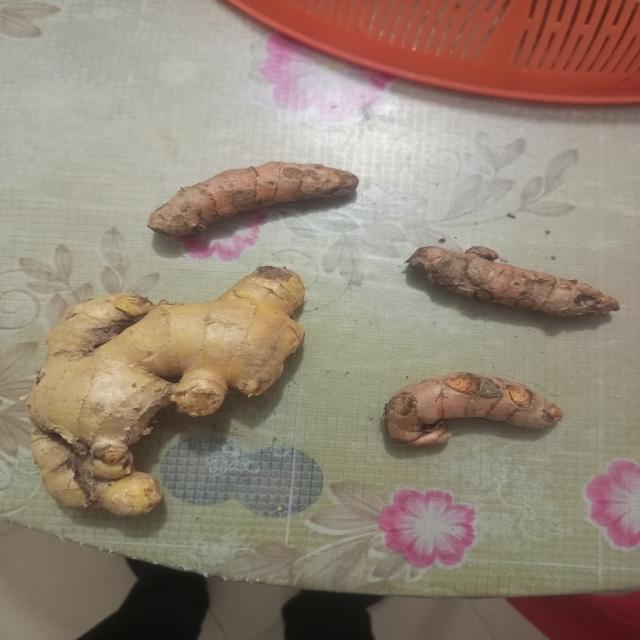ginger: (22, 266, 302, 502), (146, 160, 364, 238), (408, 246, 620, 320), (385, 374, 569, 444)
